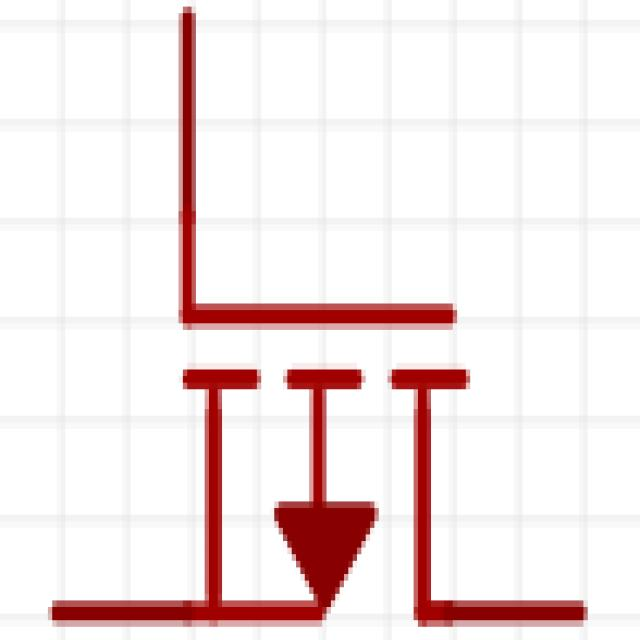pmos: (39, 33, 636, 640)
